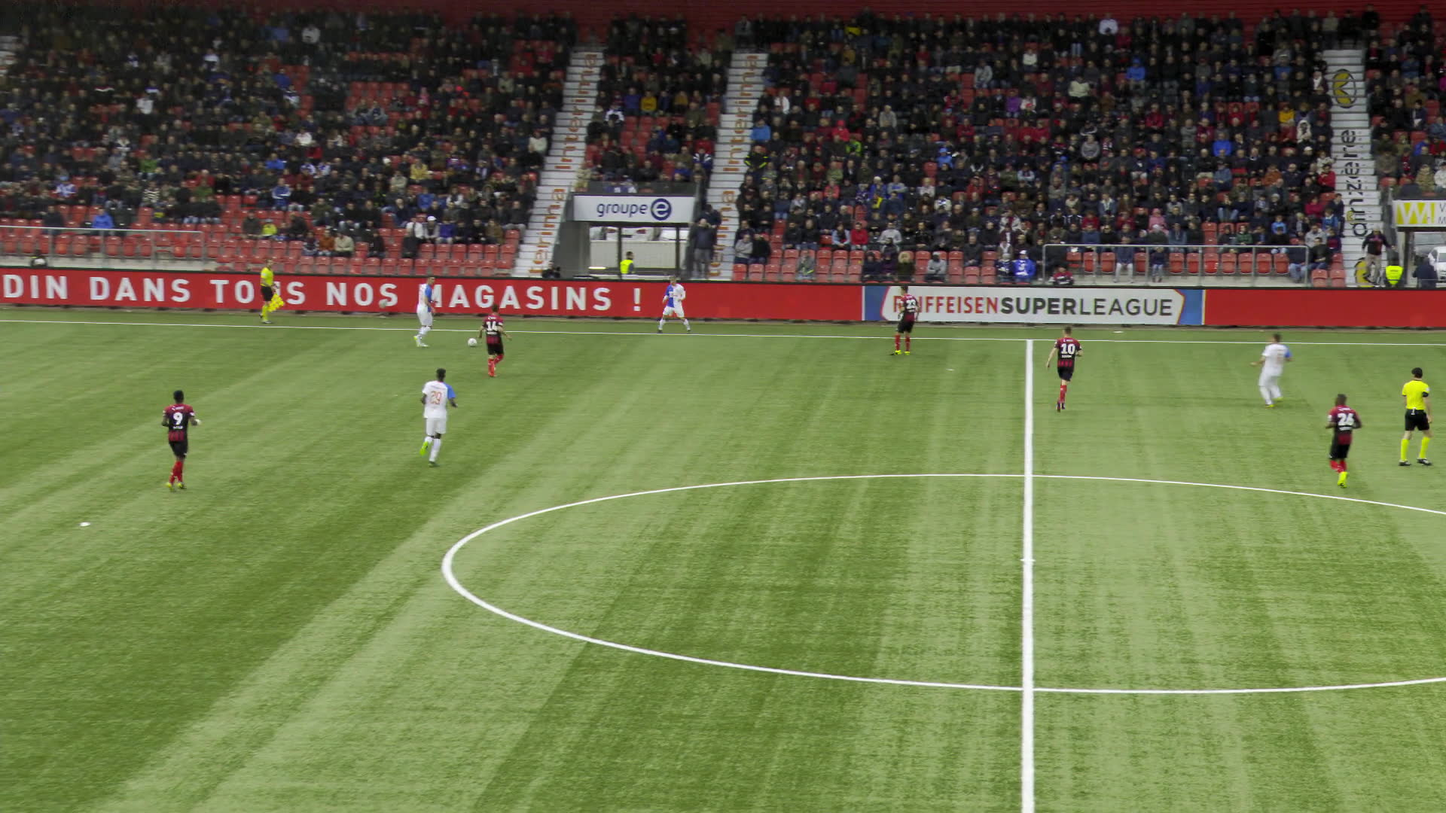ball: (468, 337, 477, 346)
player: (163, 391, 203, 492), (419, 368, 460, 466), (1326, 392, 1365, 487), (1046, 327, 1084, 415), (1254, 333, 1296, 408), (477, 305, 516, 376), (890, 287, 923, 355), (412, 273, 439, 348), (662, 275, 694, 333)
referee: (1401, 367, 1434, 466), (255, 259, 286, 324)
